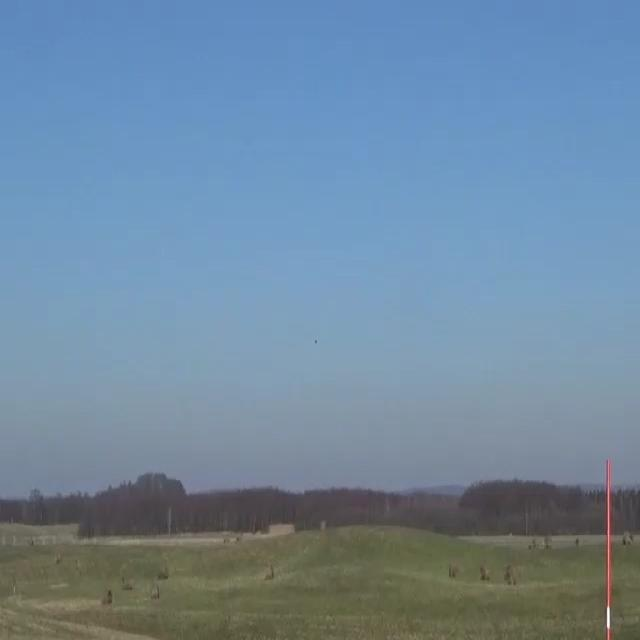bird: (312, 338, 320, 347)
